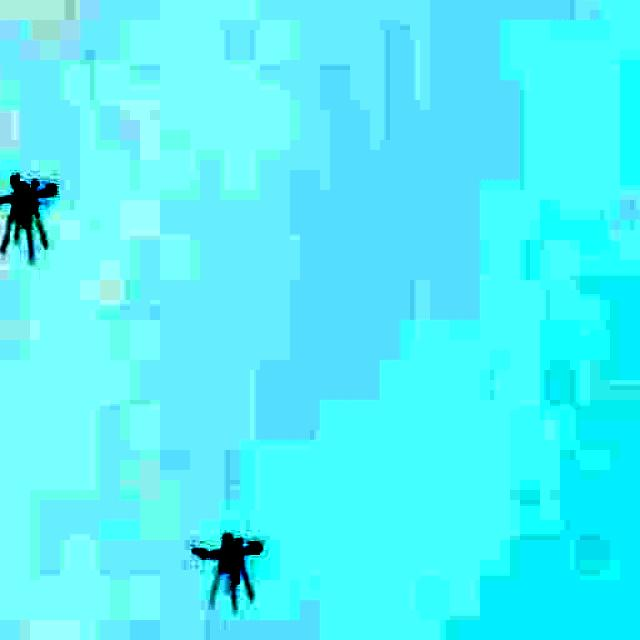bird: (202, 529, 269, 598), (0, 174, 64, 246)
